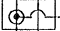Single Phase Tap-Off Unit: (0, 0, 57, 30)
